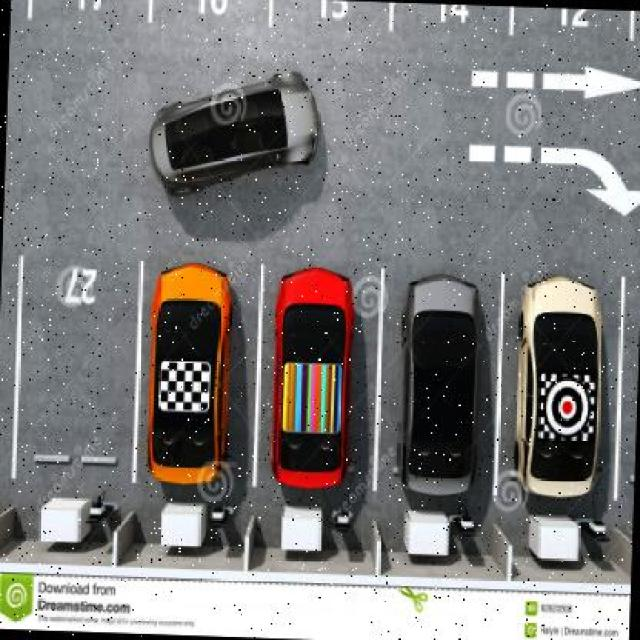Car: (498, 253, 618, 529), (132, 247, 250, 504), (255, 253, 361, 518), (386, 281, 501, 518), (136, 80, 341, 207)
Empty: (24, 237, 144, 503)
